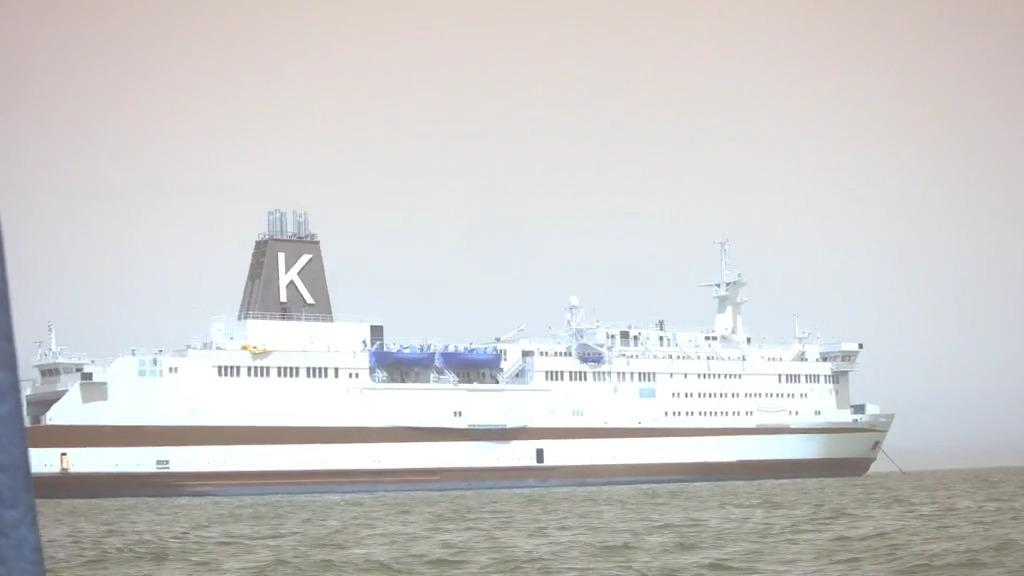PassengerShip: (16, 204, 906, 494)
